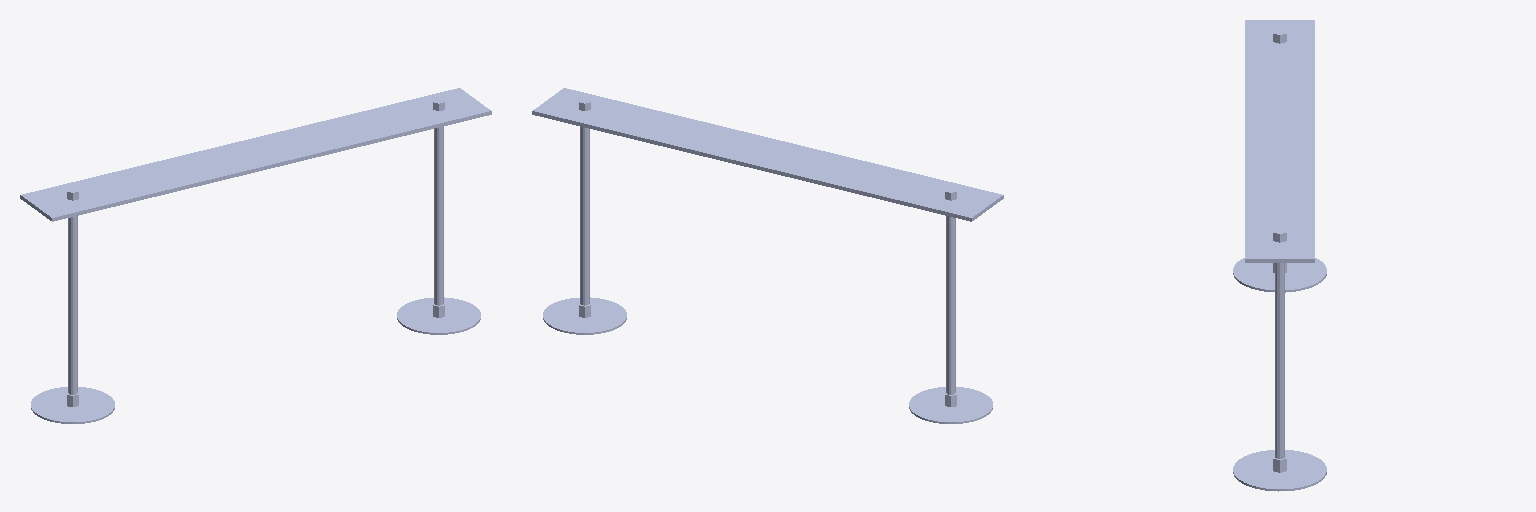
URDF robot description (niot_path):
<robot
  name="niot_path">
  <link
    name="base_link">
    <inertial>
      <origin
        xyz="0.62423 0.5129 0.12828"
        rpy="0 0 0" />
      <mass
        value="2.5722" />
      <inertia
        ixx="0.092857"
        ixy="1.3878E-17"
        ixz="-5.4794E-18"
        iyy="0.18998"
        iyz="-3.0109E-18"
        izz="0.28283" />
    </inertial>
    <visual>
      <origin
        xyz="0 0 0"
        rpy="0 0 0" />
      <geometry>
        <mesh
          filename="package://niot_path/meshes/base_link.STL" />
      </geometry>
      <material
        name="">
        <color
          rgba="0.79216 0.81961 0.93333 1" />
      </material>
    </visual>
    <collision>
      <origin
        xyz="0 0 0"
        rpy="0 0 0" />
      <geometry>
        <mesh
          filename="package://niot_path/meshes/base_link.STL" />        
      </geometry>
    </collision>
  </link>
  <gazebo reference="base_link">
    <material>Gazebo/Orange</material>
  </gazebo>
  <gazebo>
  <static>true</static>
</gazebo>
</robot>

--- Facts derived from the render (not from the file) ---
3 views of the same robot in one strip: view 1: azimuth 30°, elevation 25°; view 2: azimuth 150°, elevation 25°; view 3: azimuth 270°, elevation 25° (orthographic).
Model niot_path with 1 links and 0 joints (none), rooted at base_link, posed all joints at 0.
Links seen in each view (by area): view 1: base_link; view 2: base_link; view 3: base_link.
Boxes of the visible links, box(x1,y1,x2,y2) form: base_link: box(20, 88, 491, 423); base_link: box(532, 88, 1003, 423); base_link: box(1233, 20, 1326, 491).
Size in the robot's own frame: 1.2 by 0.2 by 0.565 metres.
Meshes: 1 distinct files referenced, 1 mesh visuals loaded (1 binary STL).
